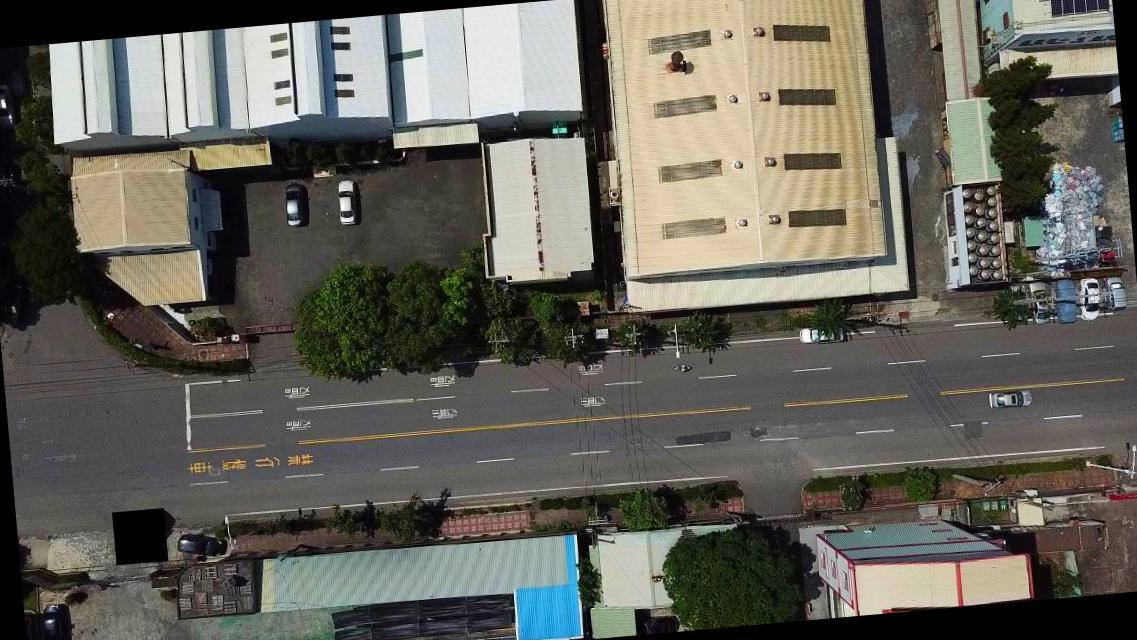vehicle: (281, 180, 307, 230), (42, 599, 74, 639), (176, 533, 224, 558), (1076, 278, 1101, 322), (332, 178, 356, 223), (985, 387, 1033, 409), (796, 324, 846, 344), (1028, 280, 1050, 324), (0, 80, 19, 129), (1102, 276, 1126, 314), (1009, 282, 1029, 324)
